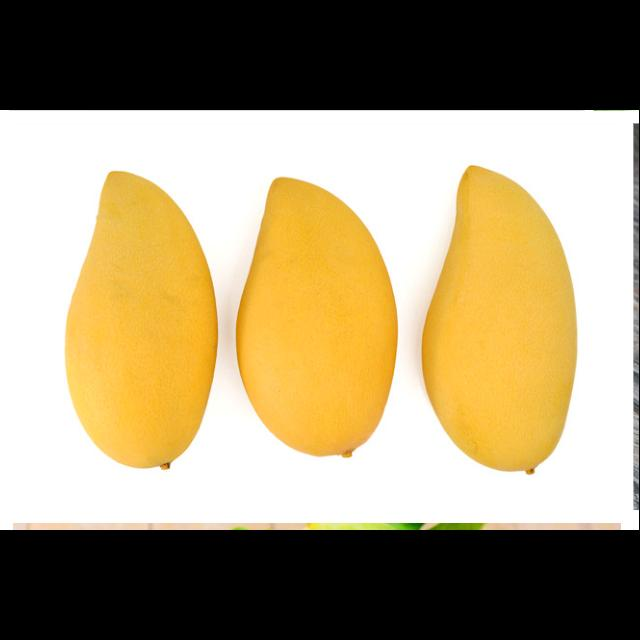mango: (424, 163, 580, 471), (62, 167, 218, 470), (235, 172, 399, 459)
